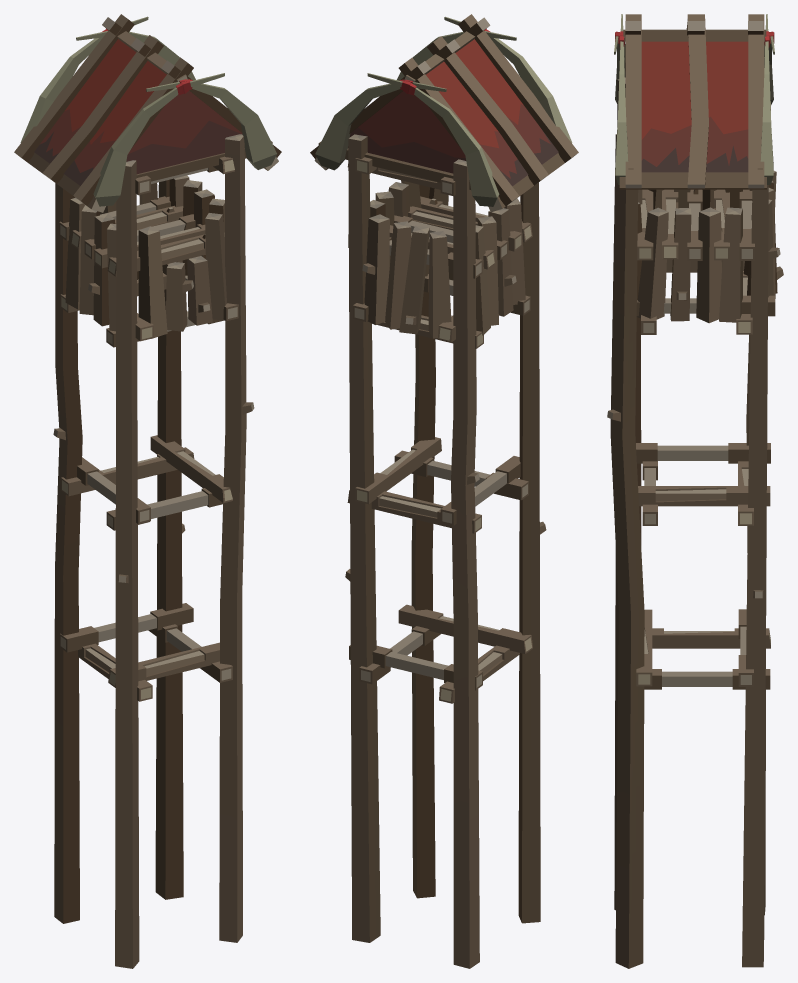
File: SF_Bld_Goblin_Tower_01.fbx
3 views of the same model, side by side, from view 1: azimuth 30°, elevation 25°; view 2: azimuth 150°, elevation 25°; view 3: azimuth 270°, elevation 25° (orthographic). The views are drawn at different scales.
Parts seen in each view (by area): view 1: SF_Bld_Goblin_Tower_01; view 2: SF_Bld_Goblin_Tower_01; view 3: SF_Bld_Goblin_Tower_01.
Part boxes in pixels (left/top/right/bottom): SF_Bld_Goblin_Tower_01: left=14, top=14, right=281, bottom=968; SF_Bld_Goblin_Tower_01: left=310, top=14, right=578, bottom=968; SF_Bld_Goblin_Tower_01: left=607, top=14, right=783, bottom=968.
Size of the model in its own units: 5.69 by 23.99 by 4.18.
